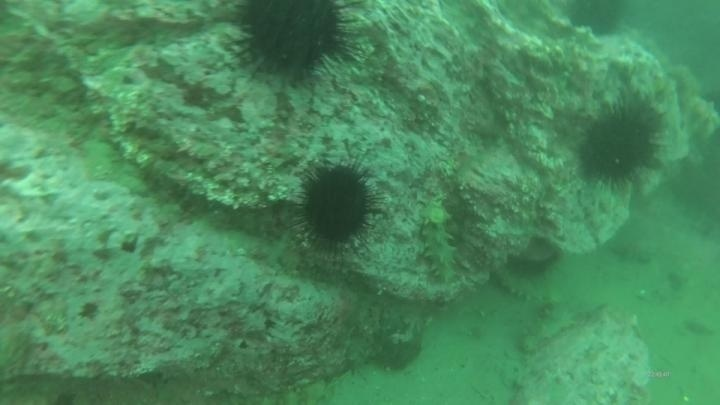echinus: (230, 1, 362, 86), (573, 94, 667, 190), (294, 160, 381, 252), (563, 1, 629, 40)
holothurian: (417, 192, 462, 287), (518, 301, 581, 355), (489, 263, 554, 305)
